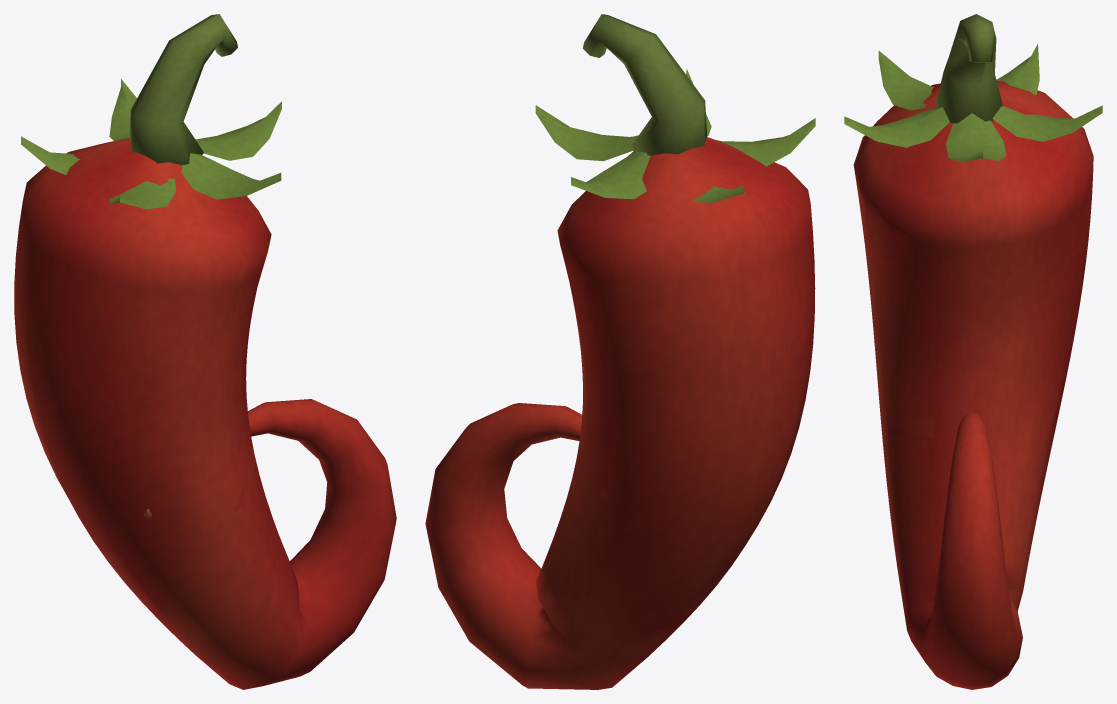
The model's file is chili-desktop.glb.
3 renders of one model, left to right at view 1: azimuth 30°, elevation 25°; view 2: azimuth 150°, elevation 25°; view 3: azimuth 270°, elevation 25°, orthographic. The views are drawn at different scales.
Visible parts, largest first — view 1: chili_0, chili_1; view 2: chili_0, chili_1; view 3: chili_0, chili_1.
Boxes of the visible parts, left/top/right/bottom form: chili_0: left=14, top=138, right=396, bottom=689; chili_1: left=21, top=14, right=281, bottom=209; chili_0: left=425, top=137, right=815, bottom=689; chili_1: left=535, top=14, right=815, bottom=202; chili_0: left=853, top=80, right=1093, bottom=689; chili_1: left=844, top=14, right=1102, bottom=162.
Size of the model in its own units: 0.842 by 1.49 by 0.5489.
3 materials, 3 textured.
